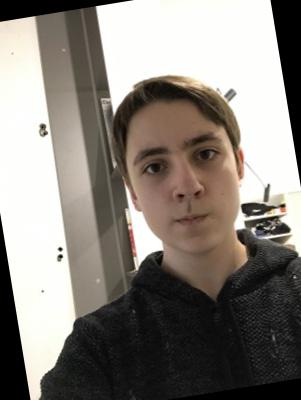without_mask: (125, 121, 250, 265)
